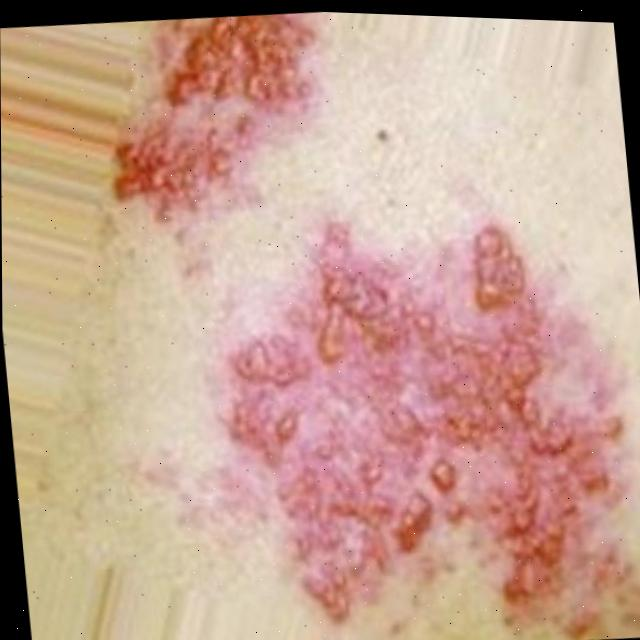Shingles: (237, 226, 603, 631), (110, 7, 297, 219)
